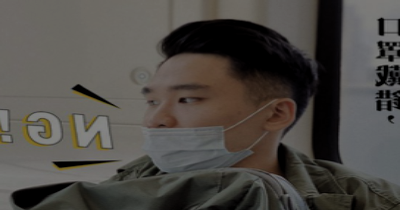mask_weared_incorrect: (139, 81, 254, 173)
